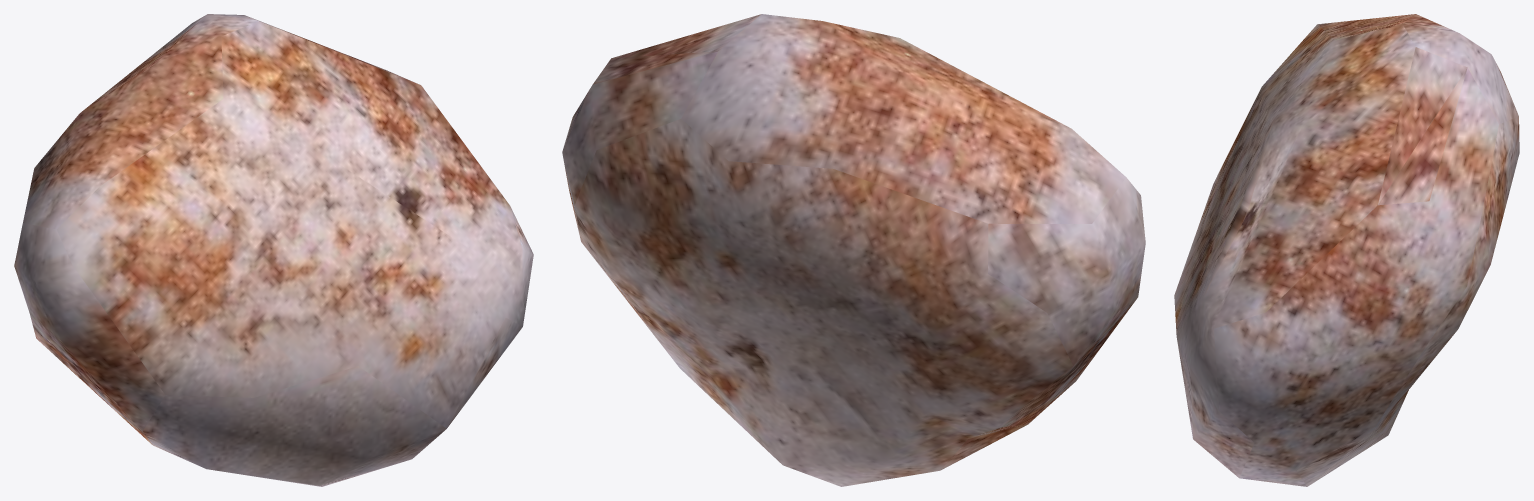
Rendered from rock.glb.
3 renders of one model, left to right at view 1: azimuth 30°, elevation 25°; view 2: azimuth 150°, elevation 25°; view 3: azimuth 270°, elevation 25°, orthographic. The views are drawn at different scales.
Parts seen in each view (by area): view 1: rock067_lod4; view 2: rock067_lod4; view 3: rock067_lod4.
Part boxes in pixels (bbox=[...]): rock067_lod4: bbox=[14, 14, 533, 486]; rock067_lod4: bbox=[562, 14, 1145, 486]; rock067_lod4: bbox=[1174, 14, 1519, 486].
Bounding box in the file's own units: 1 × 0.8674 × 0.6355.
1 material, 1 textured.
